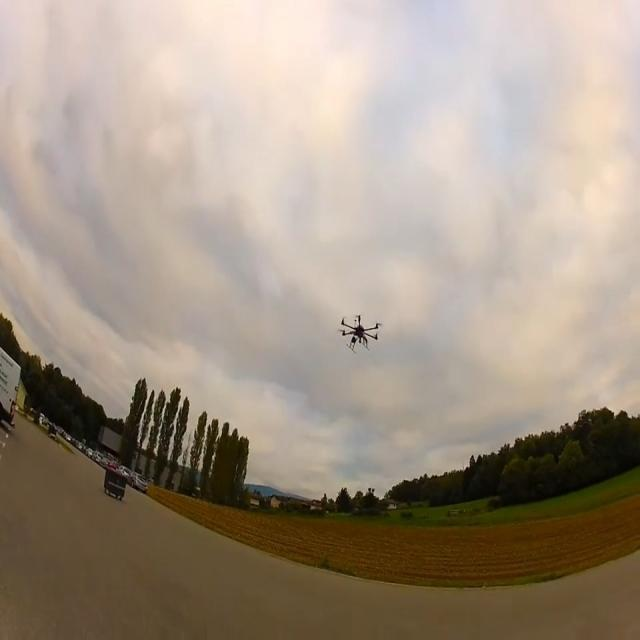drone: (338, 314, 382, 353)
